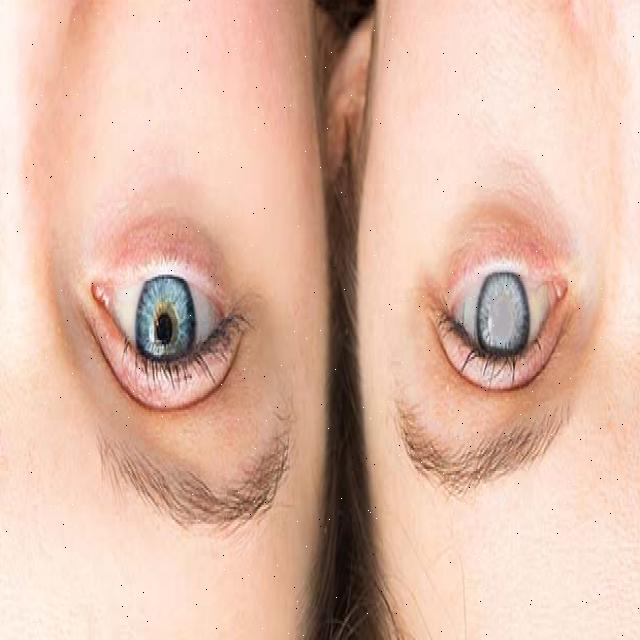Cataract: (476, 267, 529, 369)
Normal: (137, 267, 195, 392)
